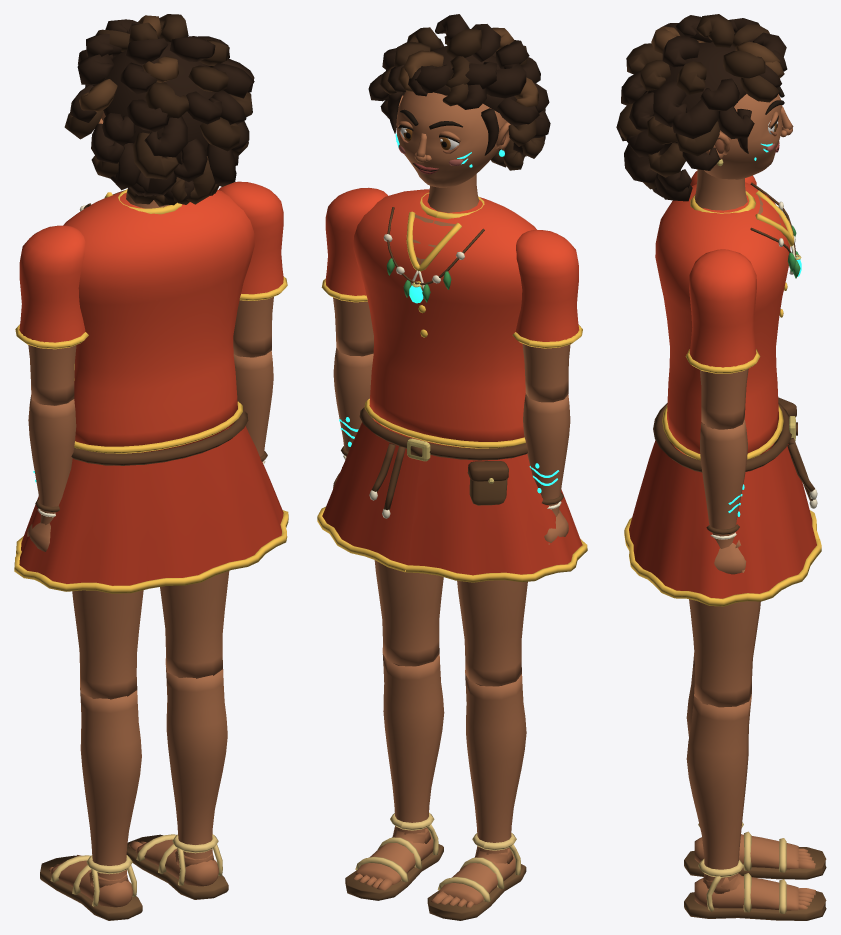
Rendered from postava.glb.
3 views of the same model, side by side, from view 1: azimuth 30°, elevation 25°; view 2: azimuth 150°, elevation 25°; view 3: azimuth 270°, elevation 25° (orthographic). The views are drawn at different scales.
Parts seen in each view (by area): view 1: chrbat__triko, telo__sukna, hlava__vlasy, koleno_P__koza, koleno_L__koza, hlava__vlasy_s, rameno_L__triko, stehno_L__koza, stehno_P__koza, laket_L__koza, rameno_P__triko, telo__zlta (+10 smaller); view 2: chrbat__triko, telo__sukna, koleno_P__koza, koleno_L__koza, hlava__vlasy, hlava__koza, stehno_L__koza, rameno_L__triko, stehno_P__koza, hlava__vlasy_s, laket_L__koza, rameno_P__triko (+13 smaller); view 3: telo__sukna, chrbat__triko, hlava__vlasy, koleno_P__koza, hlava__vlasy_s, rameno_P__triko, stehno_P__koza, laket_P__koza, hlava__koza, rameno_P__koza, telo__opasok, telo__zlta (+9 smaller).
Part boxes in pixels (x1=…): chrbat__triko: x1=63, y1=190, x2=254, y2=453; telo__sukna: x1=19, y1=426, x2=283, y2=585; hlava__vlasy: x1=70, y1=19, x2=254, y2=202; koleno_P__koza: x1=128, y1=668, x2=227, y2=886; koleno_L__koza: x1=48, y1=688, x2=141, y2=907; hlava__vlasy_s: x1=64, y1=14, x2=252, y2=206; rameno_L__triko: x1=19, y1=225, x2=85, y2=342; stehno_L__koza: x1=72, y1=590, x2=143, y2=699; stehno_P__koza: x1=160, y1=571, x2=229, y2=678; laket_L__koza: x1=27, y1=395, x2=76, y2=551; rameno_P__triko: x1=218, y1=181, x2=283, y2=294; telo__zlta: x1=14, y1=510, x2=288, y2=593; chrbat__triko: x1=353, y1=189, x2=536, y2=448; telo__sukna: x1=322, y1=422, x2=582, y2=575; koleno_P__koza: x1=353, y1=654, x2=444, y2=890; koleno_L__koza: x1=430, y1=674, x2=526, y2=907; hlava__vlasy: x1=368, y1=14, x2=550, y2=156; hlava__koza: x1=396, y1=91, x2=510, y2=187; stehno_L__koza: x1=457, y1=580, x2=527, y2=685; rameno_L__triko: x1=515, y1=230, x2=579, y2=341; stehno_P__koza: x1=374, y1=560, x2=443, y2=665; hlava__vlasy_s: x1=380, y1=27, x2=545, y2=170; laket_L__koza: x1=523, y1=393, x2=570, y2=544; rameno_P__triko: x1=325, y1=187, x2=387, y2=295; telo__sukna: x1=629, y1=440, x2=816, y2=598; chrbat__triko: x1=655, y1=182, x2=790, y2=455; hlava__vlasy: x1=616, y1=15, x2=787, y2=201; koleno_P__koza: x1=686, y1=695, x2=815, y2=910; hlava__vlasy_s: x1=618, y1=14, x2=779, y2=189; rameno_P__triko: x1=689, y1=249, x2=756, y2=367; stehno_P__koza: x1=689, y1=599, x2=760, y2=707; laket_P__koza: x1=700, y1=419, x2=747, y2=574; hlava__koza: x1=704, y1=94, x2=793, y2=179; rameno_P__koza: x1=700, y1=368, x2=748, y2=429; telo__opasok: x1=653, y1=397, x2=815, y2=500; telo__zlta: x1=624, y1=510, x2=821, y2=606.
Bounding box in the file's own units: 0.6092 × 1.95 × 0.4297.
